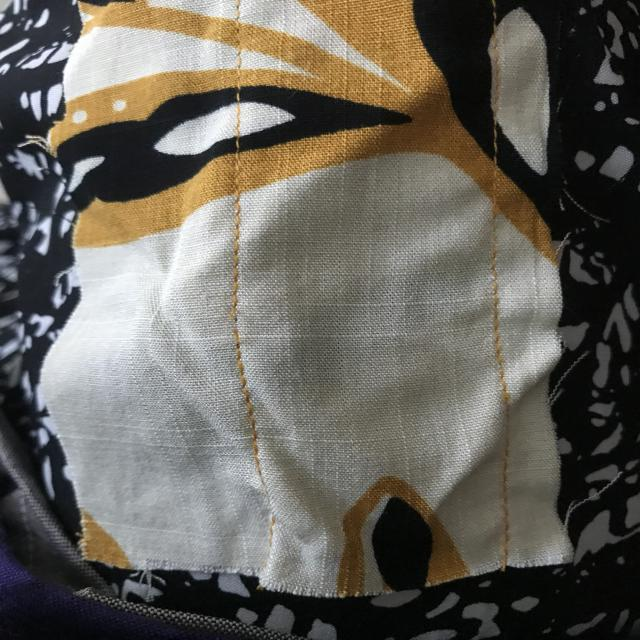broken: (214, 302, 276, 345)
